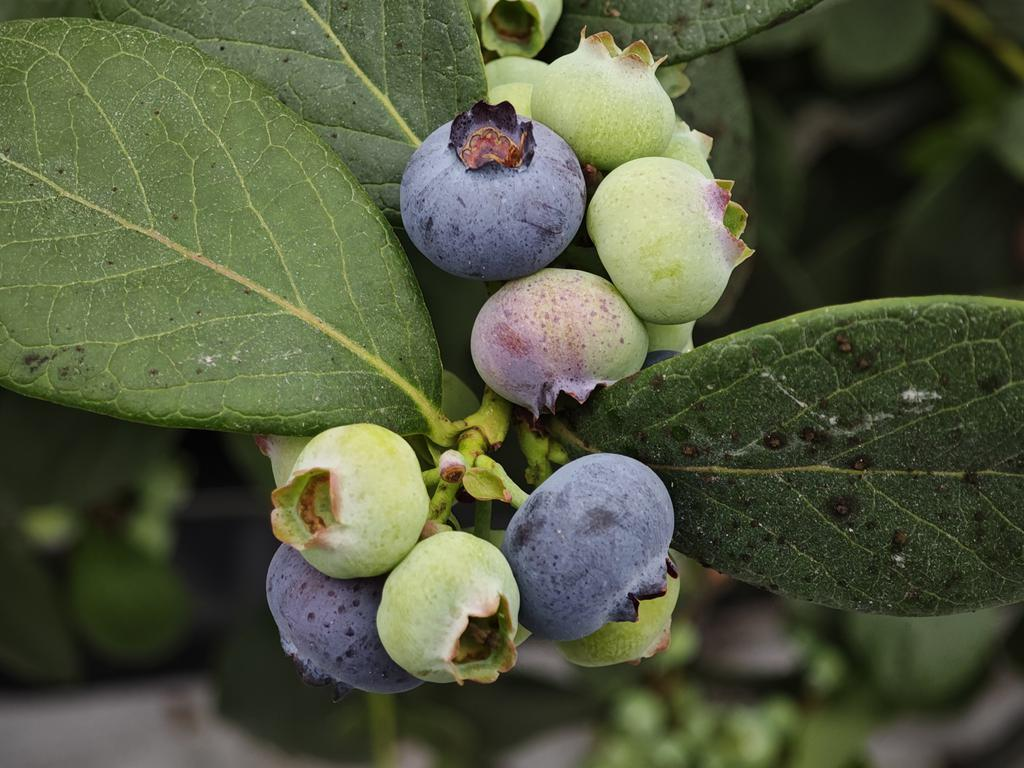RipeBlueBerry: (398, 99, 590, 279), (507, 448, 679, 642)
Semi-RipeBlueBerry: (469, 265, 652, 407)
UnripeBlueBerry: (590, 154, 752, 329), (273, 422, 433, 584), (374, 525, 525, 684)
